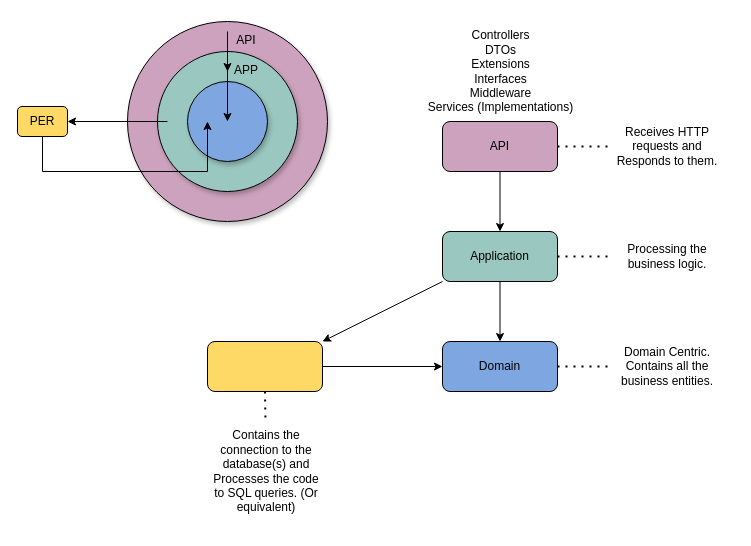
Image size: 751x546. Some labels were removed from this diagram. Here are the shapes that lost their labels. From the top down, the centre of each, then its label:
point 228,122: DOM
point 264,366: Persistence
